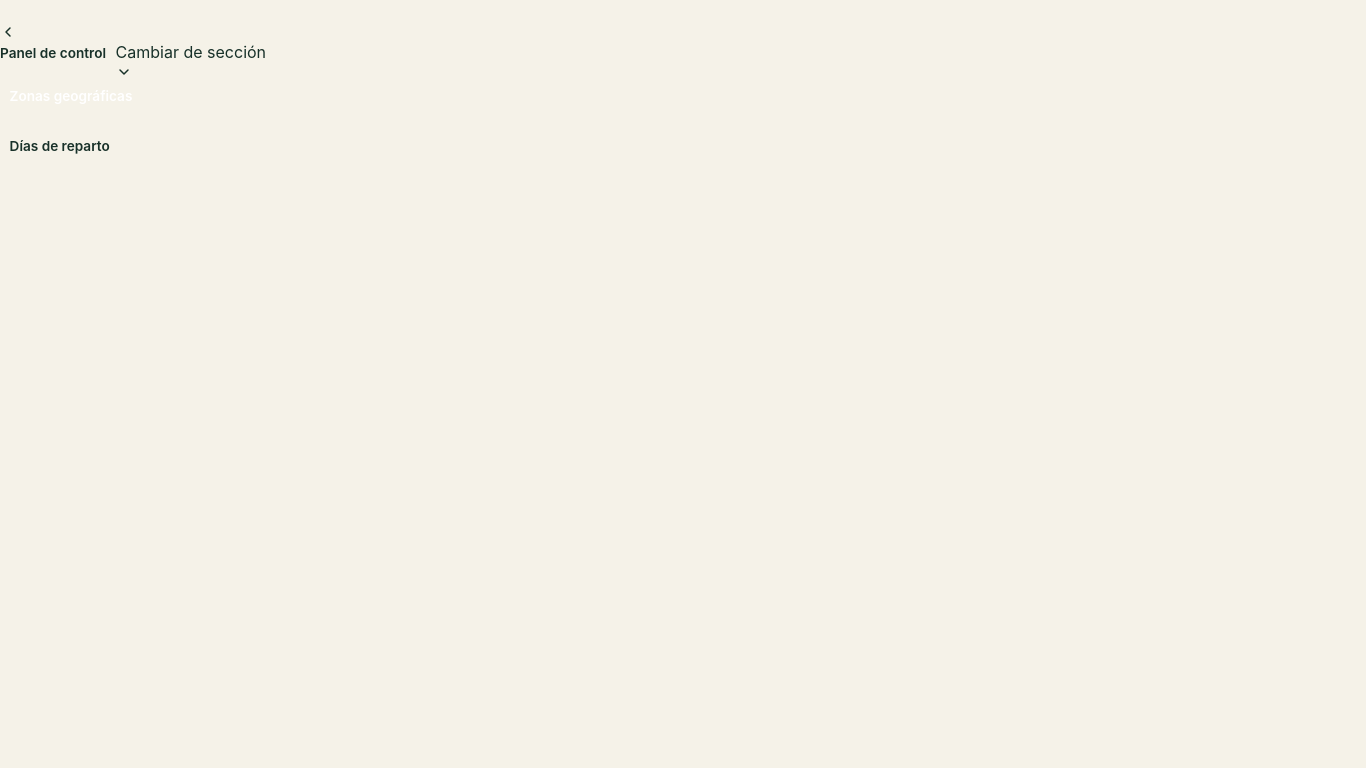
Test: SettingsTabs en pantalla angosta › sólo ofrece lo que la persona puede ver
The image size is (1366, 768).
What coordinates should you click on to do the following:
click the button "Cambiar de sección"
I would click on:
 (191, 60)
Its box is [116,40,266,80].
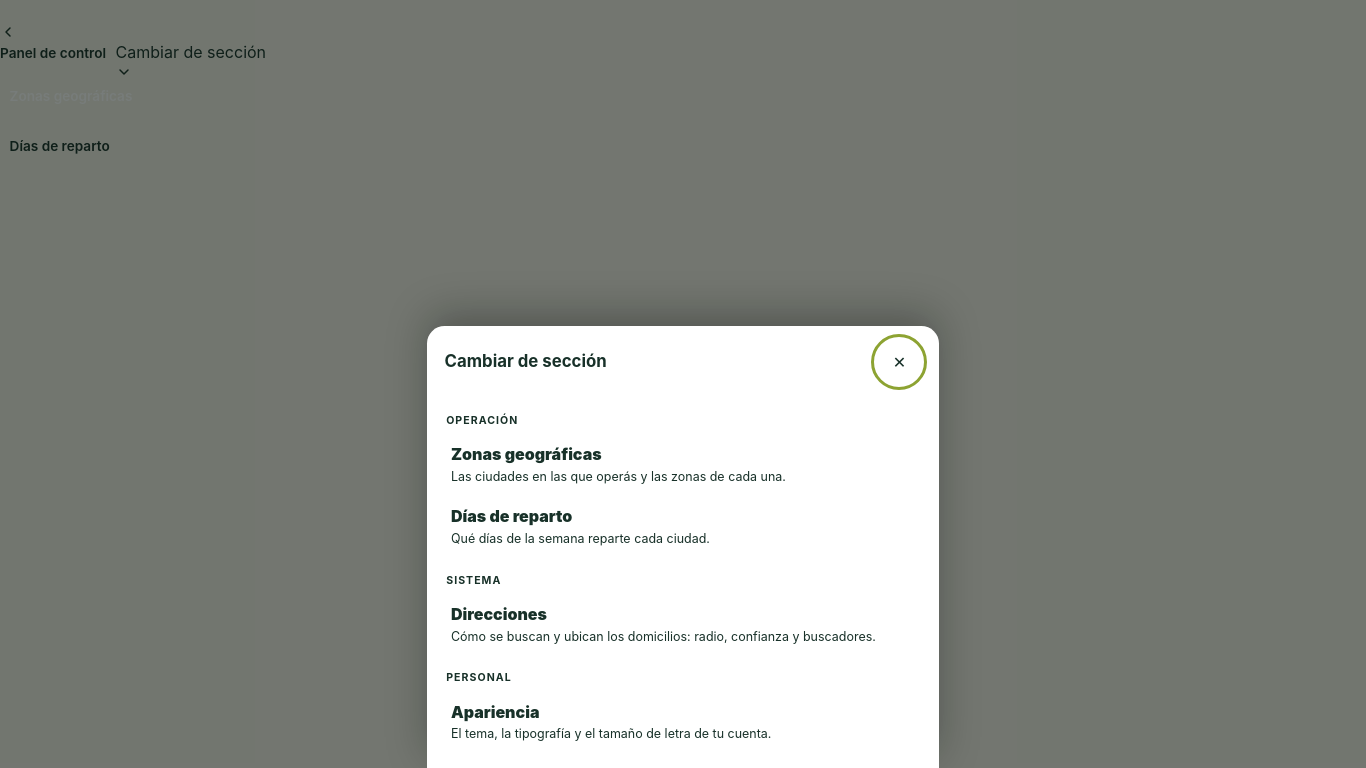
Now the link "Zonas geográficas" is shown, box [451,444,786,484]
